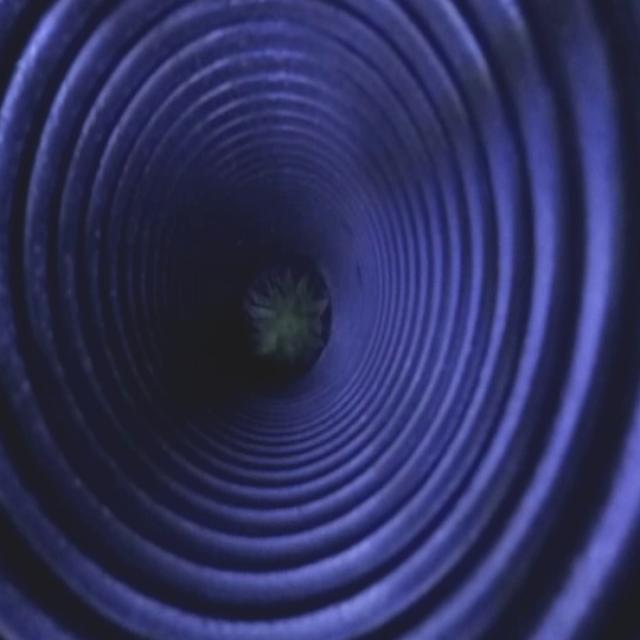leaf: (253, 263, 334, 366)
